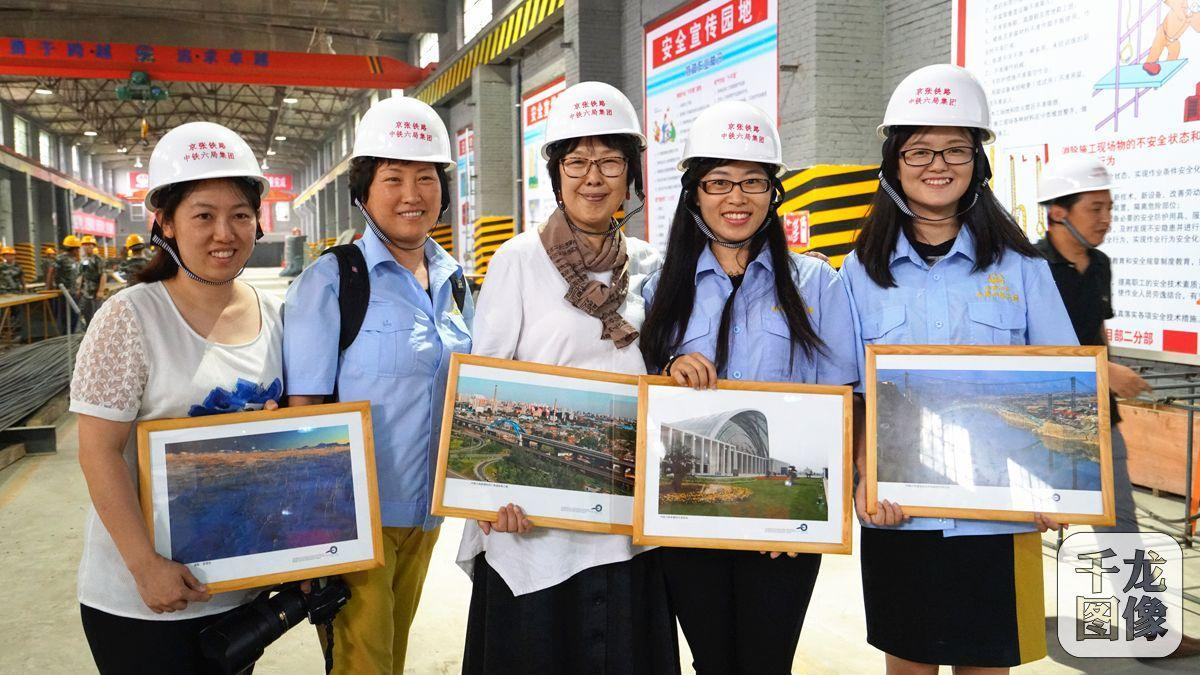helmet: (139, 113, 275, 206), (871, 59, 1007, 145), (537, 80, 644, 171), (347, 101, 462, 174), (675, 95, 783, 171)
no-vest: (72, 289, 294, 622), (327, 234, 447, 506), (497, 210, 652, 405), (675, 251, 830, 394), (869, 245, 1051, 361)
person: (845, 53, 1091, 675), (69, 120, 293, 675), (655, 93, 861, 675), (295, 97, 479, 675), (480, 81, 656, 675)
